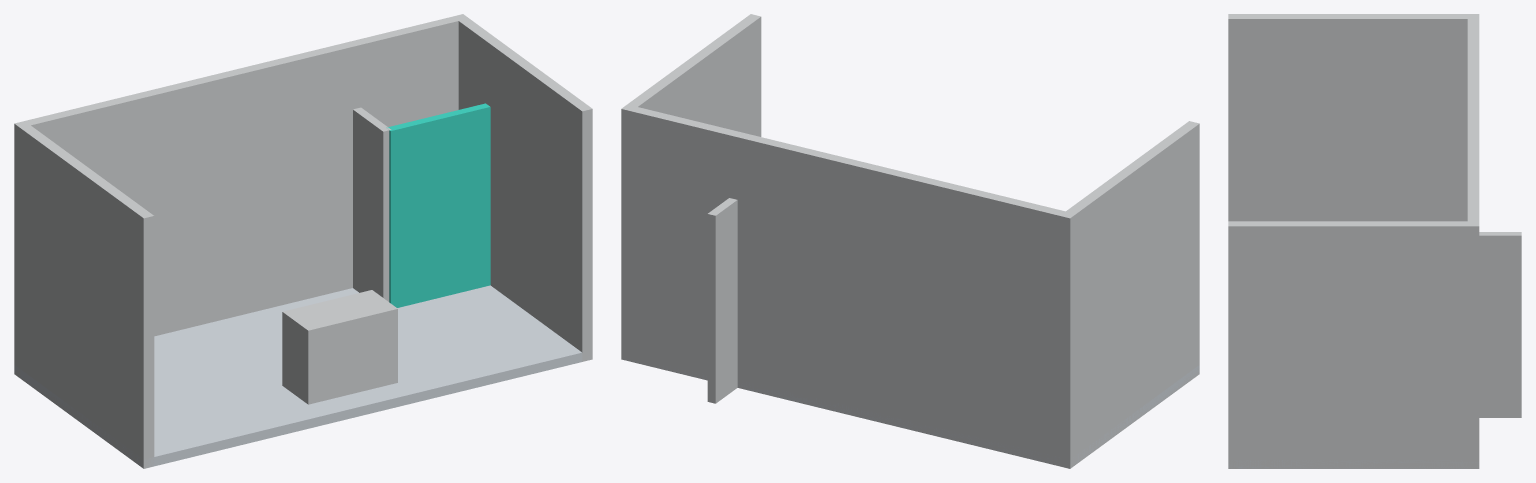
3 views of the same model, side by side, from view 1: azimuth 30°, elevation 25°; view 2: azimuth 150°, elevation 25°; view 3: azimuth 270°, elevation 25° (orthographic). The views are drawn at different scales.
Visible parts, largest first — view 1: Exhibition Booth Concept; view 2: Exhibition Booth Concept; view 3: Exhibition Booth Concept.
Boxes of the visible parts, left/top/right/bottom form: Exhibition Booth Concept: left=14, top=14, right=592, bottom=468; Exhibition Booth Concept: left=621, top=14, right=1199, bottom=468; Exhibition Booth Concept: left=1228, top=14, right=1521, bottom=468.
Bounding box in the file's own units: 6 × 3.2 × 3.51.
